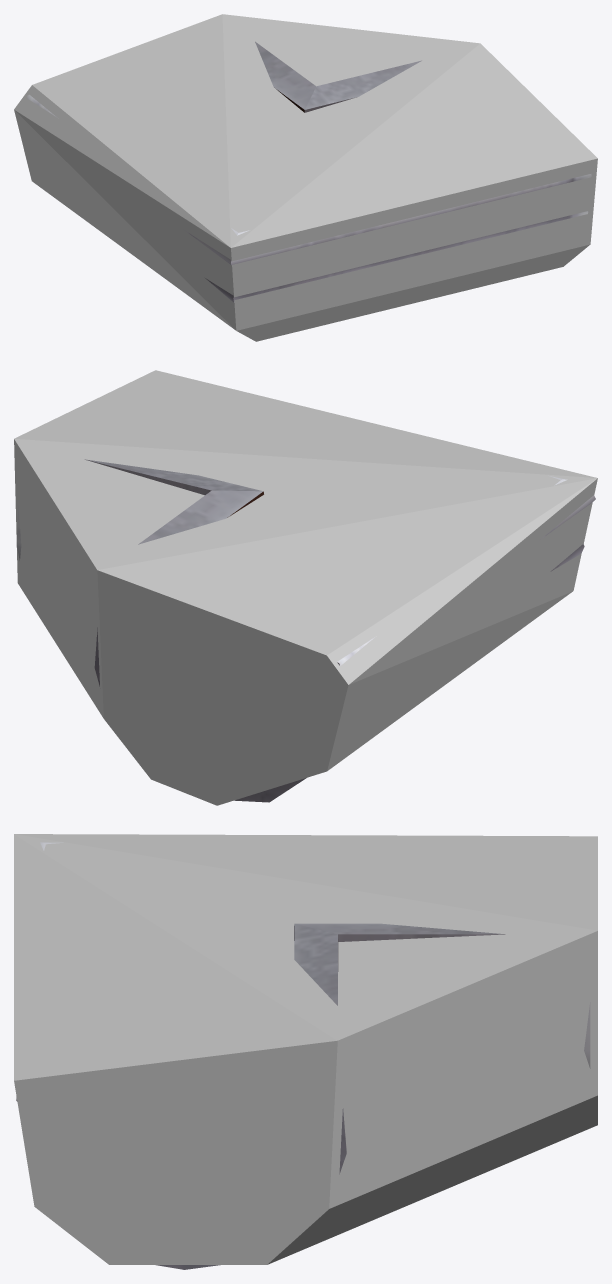
Rendered from SM_PropRoofDrainage01_7.fbx.
The picture shows the model from 3 angles, top to bottom: view 1: azimuth 30°, elevation 25°; view 2: azimuth 150°, elevation 25°; view 3: azimuth 270°, elevation 25°; orthographic projection. The views are drawn at different scales.
Parts seen in each view (by area): view 1: SM_PropRoofDrainage01_7_ConvexHulls, SM_PropRoofDrainage01_7; view 2: SM_PropRoofDrainage01_7_ConvexHulls, SM_PropRoofDrainage01_7; view 3: SM_PropRoofDrainage01_7_ConvexHulls, SM_PropRoofDrainage01_7.
Part boxes in pixels (x1,y1,x2,y2): SM_PropRoofDrainage01_7_ConvexHulls: (14, 14, 597, 341); SM_PropRoofDrainage01_7: (26, 41, 591, 302); SM_PropRoofDrainage01_7_ConvexHulls: (14, 370, 597, 805); SM_PropRoofDrainage01_7: (16, 459, 595, 802); SM_PropRoofDrainage01_7_ConvexHulls: (14, 834, 597, 1264); SM_PropRoofDrainage01_7: (16, 842, 590, 1269).
Size of the model in its own units: 43.6 by 43.01 by 19.18.
2 materials, 1 textured.
